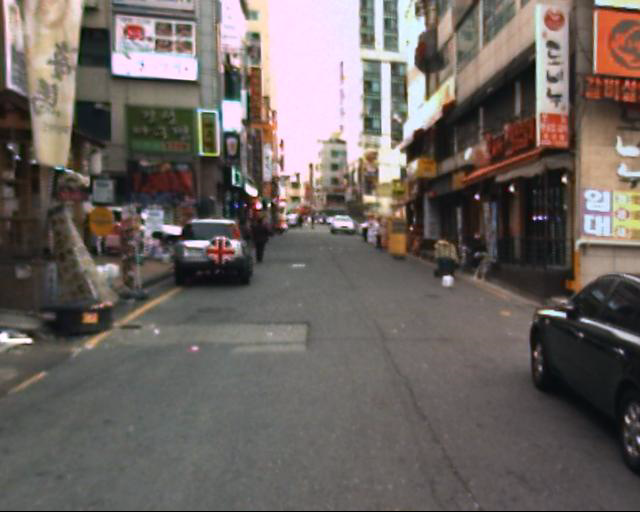person: (239, 209, 275, 282)
